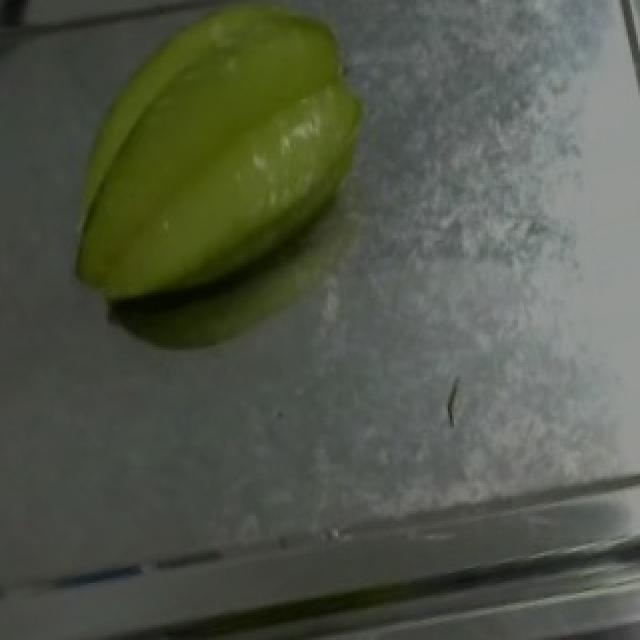fruit: (54, 0, 406, 325)
